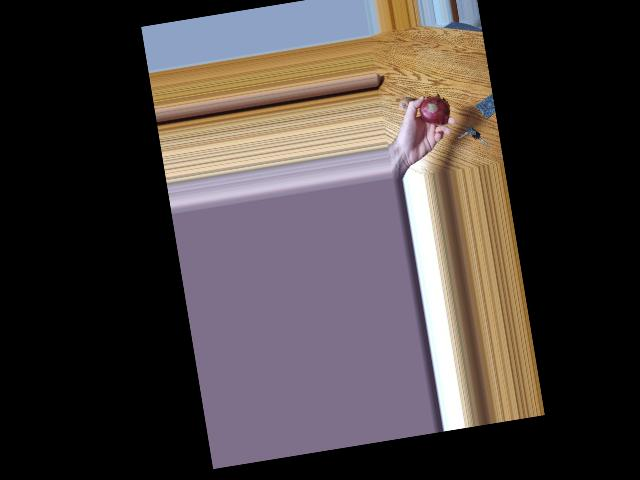onion: (392, 95, 413, 117)
